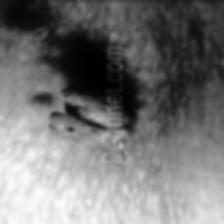Toxin: (40, 84, 138, 146)
